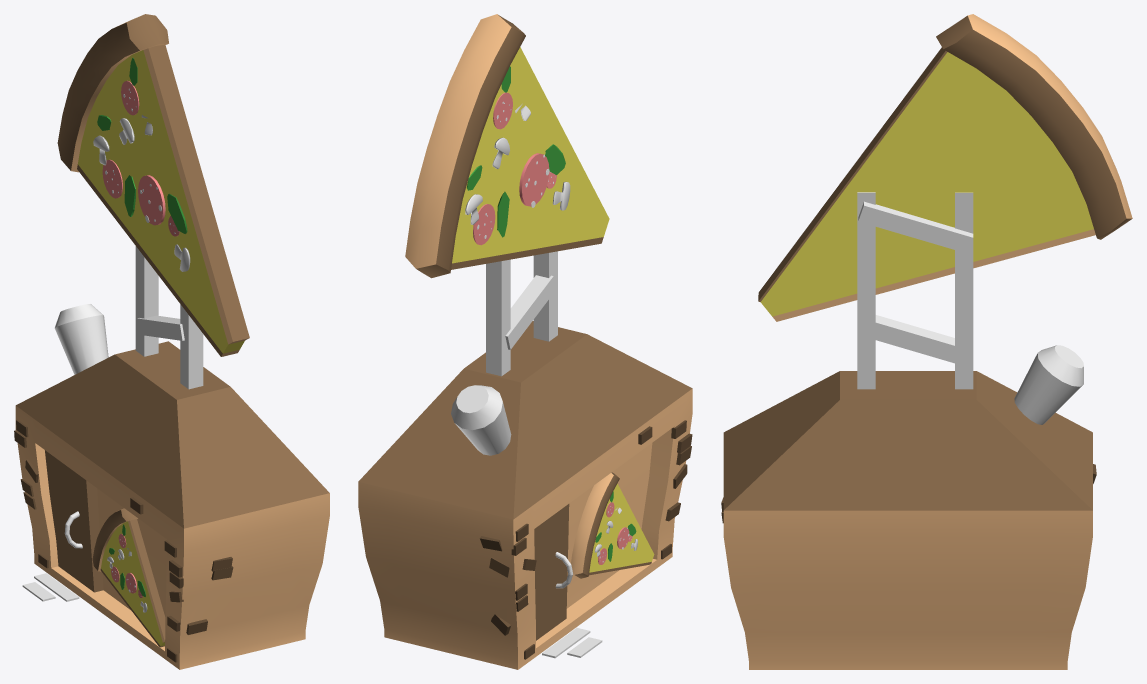
Rendered from PizzaHouse.fbx.
3 views of the same model, side by side, from view 1: azimuth 30°, elevation 25°; view 2: azimuth 150°, elevation 25°; view 3: azimuth 270°, elevation 25° (orthographic). The views are drawn at different scales.
Parts seen in each view (by area): view 1: PizzaHouse; view 2: PizzaHouse; view 3: PizzaHouse.
Part boxes in pixels (x1=…): PizzaHouse: x1=14, y1=14, x2=329, y2=669; PizzaHouse: x1=358, y1=14, x2=692, y2=669; PizzaHouse: x1=721, y1=14, x2=1132, y2=669.
Size of the model in its own units: 11.92 by 37.15 by 22.27.
